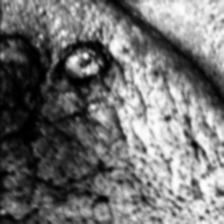Potentially Malignant Skin Tumors: (56, 34, 106, 94)
